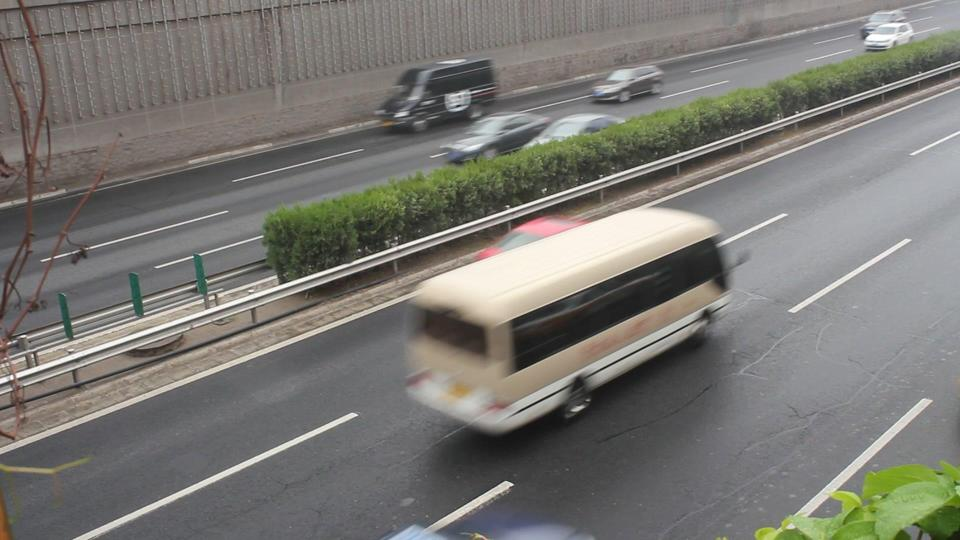bus: (410, 212, 733, 433)
car: (435, 111, 606, 164), (477, 216, 591, 259), (589, 64, 666, 103), (861, 22, 910, 50), (864, 9, 903, 34)
truck: (376, 55, 495, 129)
